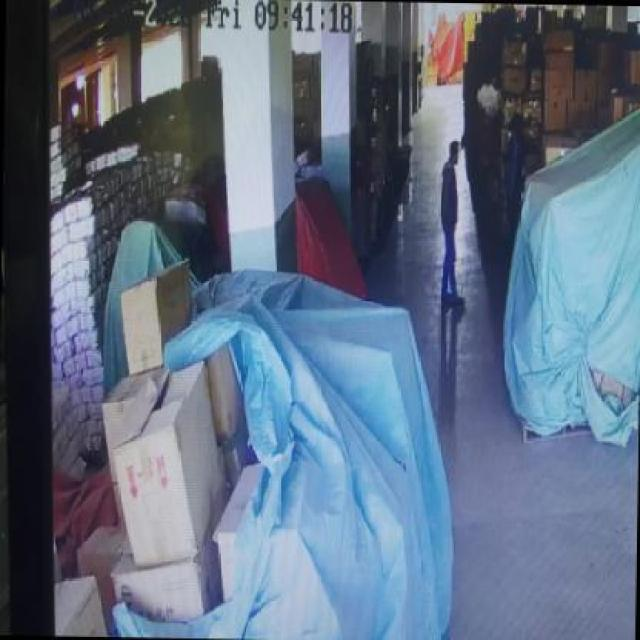fire: (474, 80, 500, 122)
